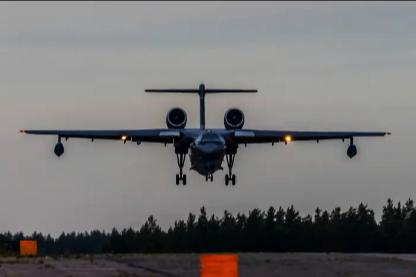B52: (19, 79, 393, 184)
